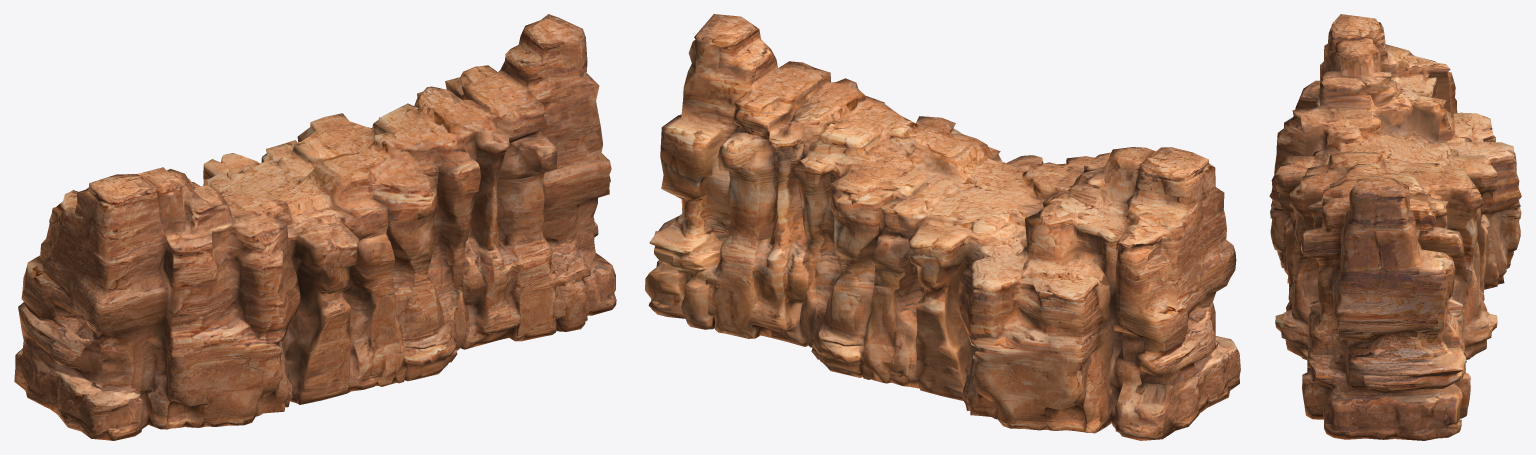
The model's file is sandstone-cliff-wall.glb.
3 views of the same model, side by side, from view 1: azimuth 30°, elevation 25°; view 2: azimuth 150°, elevation 25°; view 3: azimuth 270°, elevation 25° (orthographic). The views are drawn at different scales.
Parts seen in each view (by area): view 1: sandstone-cliff-wall; view 2: sandstone-cliff-wall; view 3: sandstone-cliff-wall.
Boxes of the visible parts, x1=… form: sandstone-cliff-wall: x1=14, y1=14, x2=616, y2=440; sandstone-cliff-wall: x1=645, y1=14, x2=1240, y2=440; sandstone-cliff-wall: x1=1269, y1=14, x2=1521, y2=440.
Bounding box in the file's own units: 20 × 9.49 × 9.06.
1 material, 1 textured.
